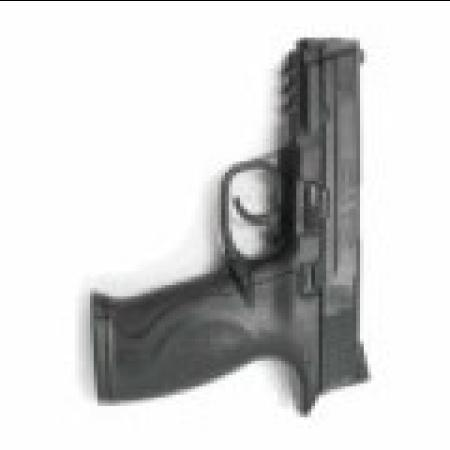Pistol: (97, 30, 372, 416)
